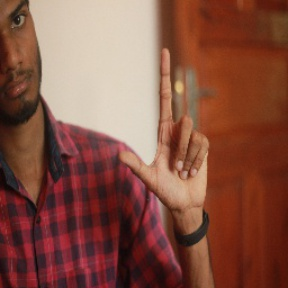L: (117, 45, 212, 213)
